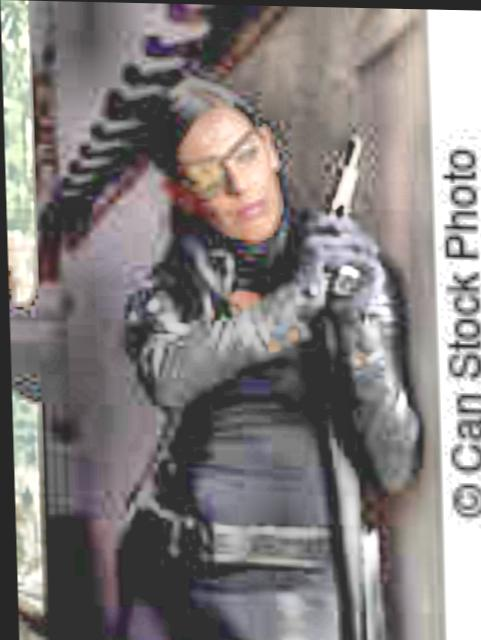pistol: (309, 124, 377, 301)
